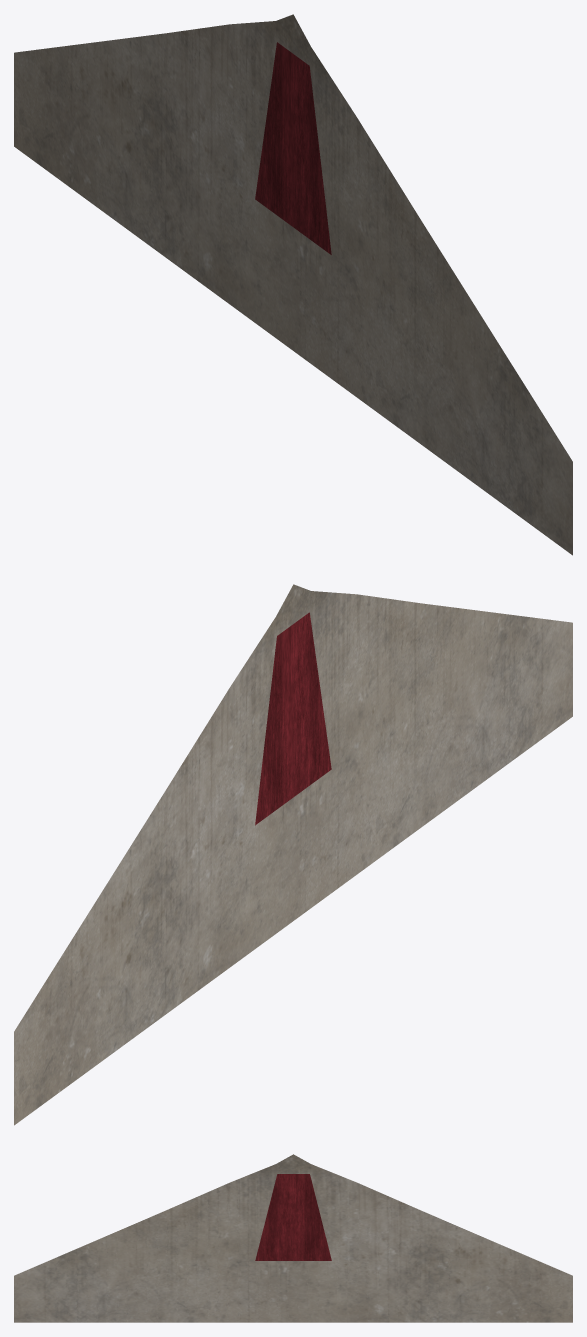
The model's file is SM_R_MiddleBeam_11.fbx.
3 views of the same model, one above another, from view 1: azimuth 30°, elevation 25°; view 2: azimuth 150°, elevation 25°; view 3: azimuth 270°, elevation 25° (orthographic). The views are drawn at different scales.
Parts seen in each view (by area): view 1: SM_R_MiddleBeam_11; view 2: SM_R_MiddleBeam_11; view 3: SM_R_MiddleBeam_11.
Boxes of the visible parts, <box> form: SM_R_MiddleBeam_11: <box>14,14,572,555</box>; SM_R_MiddleBeam_11: <box>14,584,572,1125</box>; SM_R_MiddleBeam_11: <box>14,1154,572,1322</box>.
Size of the model in its own units: 0.000279 by 626 by 208.
2 materials, 2 textured.
